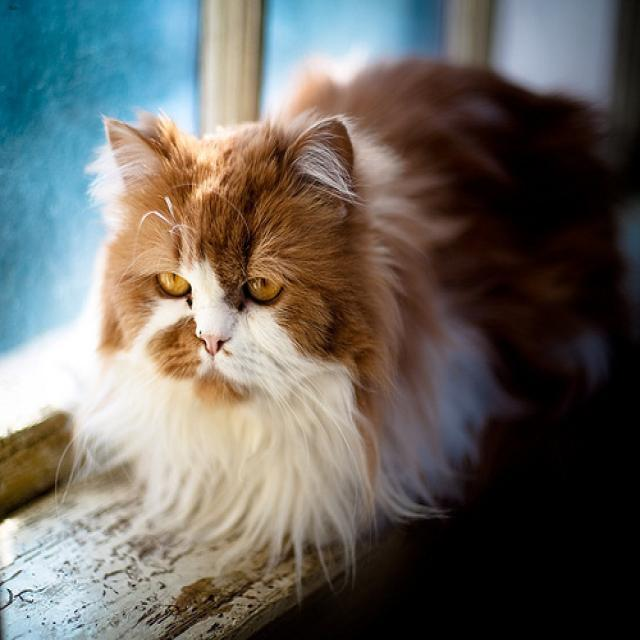Persian: (102, 115, 351, 404)
